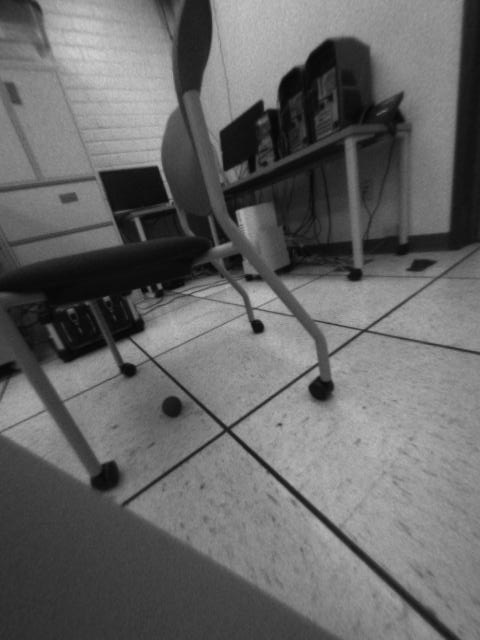dogtoy: (154, 387, 187, 421)
